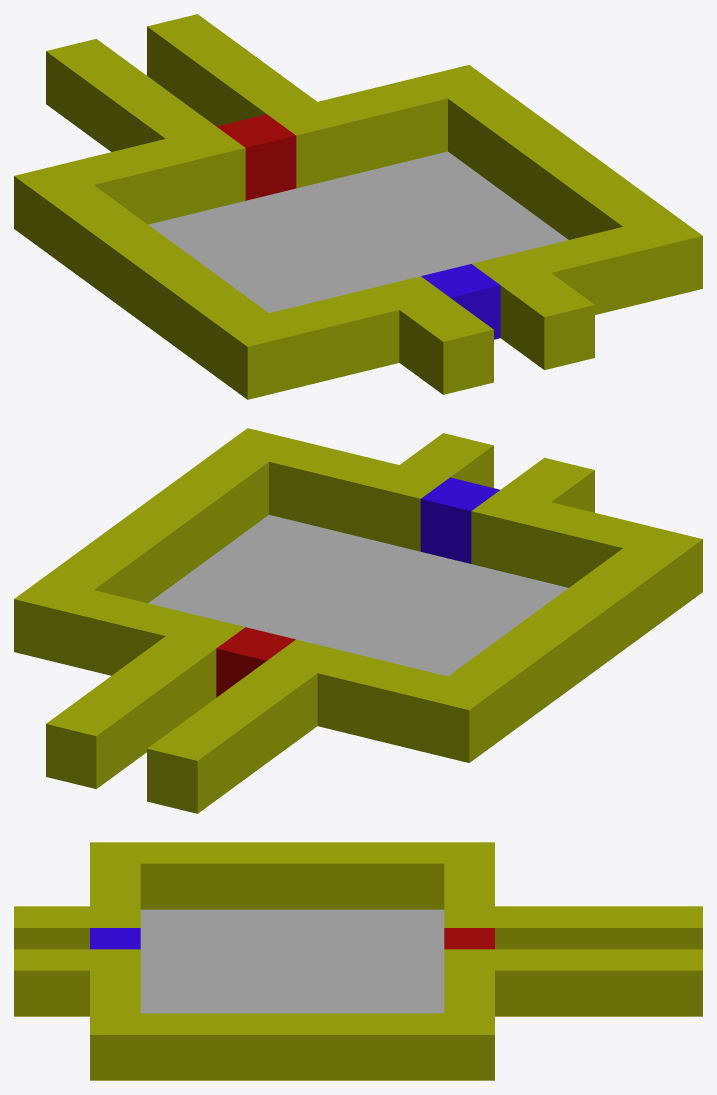
File: env1.fbx
3 renders of one model, top to bottom at view 1: azimuth 30°, elevation 25°; view 2: azimuth 150°, elevation 25°; view 3: azimuth 270°, elevation 25°, orthographic. The views are drawn at different scales.
Parts seen in each view (by area): view 1: pCube3, pCube5, pCube4, pPlane20, pPlane18, pPlane41, pPlane35, pPlane34, pPlane42, pPlane40, pPlane36, pPlane30 (+15 smaller); view 2: pCube3, pCube4, pCube5, pPlane22, pPlane32, pPlane15, pPlane26, pPlane37, pPlane33, pPlane25, pPlane40, pPlane39 (+15 smaller); view 3: pCube3, pPlane17, pPlane14, pPlane13, pPlane1, pPlane4, pPlane23, pPlane20, pPlane19, pPlane11, pPlane8, pPlane7 (+21 smaller).
Boxes of the visible parts, x1,y1,x2,y2 form: pCube3: (14, 14, 702, 399); pCube5: (216, 114, 296, 200); pCube4: (421, 264, 500, 339); pPlane20: (304, 231, 383, 264); pPlane18: (224, 222, 303, 255); pPlane41: (397, 151, 476, 184); pPlane35: (347, 164, 425, 197); pPlane34: (435, 228, 513, 261); pPlane42: (427, 173, 505, 206); pPlane40: (485, 215, 564, 249); pPlane36: (376, 185, 455, 218); pPlane30: (326, 197, 404, 231); pCube3: (14, 428, 702, 813); pCube4: (420, 477, 500, 563); pCube5: (216, 627, 295, 697); pPlane22: (333, 594, 412, 628); pPlane32: (203, 591, 282, 624); pPlane15: (413, 585, 492, 618); pPlane26: (254, 603, 332, 637); pPlane37: (240, 515, 319, 548); pPlane33: (261, 548, 340, 581); pPlane25: (341, 539, 420, 572); pPlane40: (182, 557, 260, 590); pPlane39: (211, 536, 289, 569); pCube3: (14, 842, 702, 1080); pPlane17: (393, 952, 444, 973); pPlane14: (292, 952, 343, 973); pPlane13: (140, 952, 191, 973); pPlane1: (140, 909, 191, 930); pPlane4: (292, 909, 343, 930); pPlane23: (393, 973, 444, 994); pPlane20: (292, 973, 343, 994); pPlane19: (140, 973, 191, 994); pPlane11: (393, 931, 444, 952); pPlane8: (292, 931, 343, 952); pPlane7: (140, 931, 191, 952).
Bounding box in the file's own units: 18 × 2 × 27.21.
